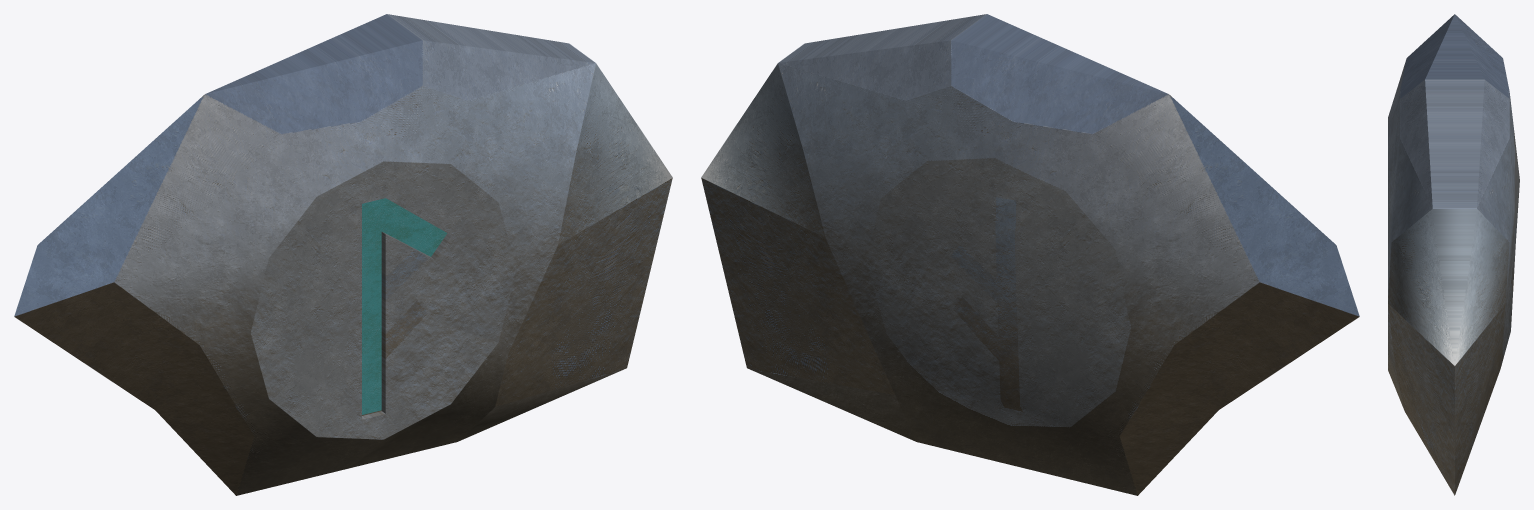
File: Charge_Týr.fbx
3 views of the same model, side by side, from view 1: azimuth 30°, elevation 25°; view 2: azimuth 150°, elevation 25°; view 3: azimuth 270°, elevation 25° (orthographic). The views are drawn at different scales.
Parts seen in each view (by area): view 1: Char_Thor's Lightning; view 2: Char_Thor's Lightning; view 3: Char_Thor's Lightning.
Part boxes in pixels (box(x1,y1,x2,y2)): Char_Thor's Lightning: box(14, 14, 672, 495); Char_Thor's Lightning: box(701, 14, 1359, 495); Char_Thor's Lightning: box(1388, 14, 1519, 495).
Bounding box in the file's own units: 67.57 × 41.92 × 14.18.
Materials: 1 (1 with a texture image).
